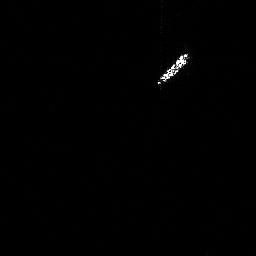ship: (156, 51, 189, 86)
